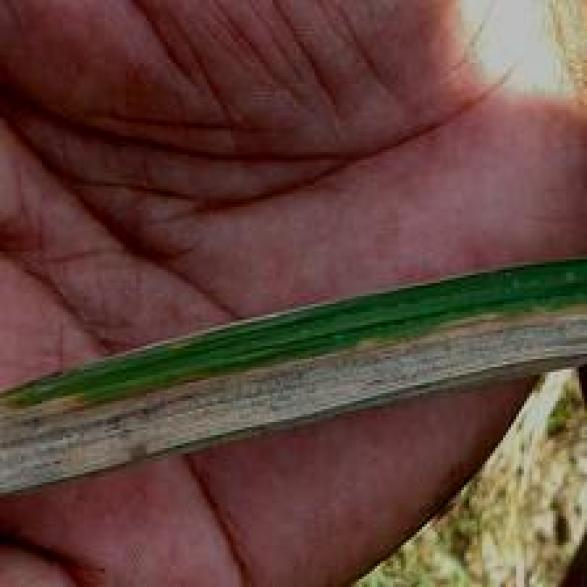Bacteria_Leaf_Blight: (23, 322, 576, 466)
